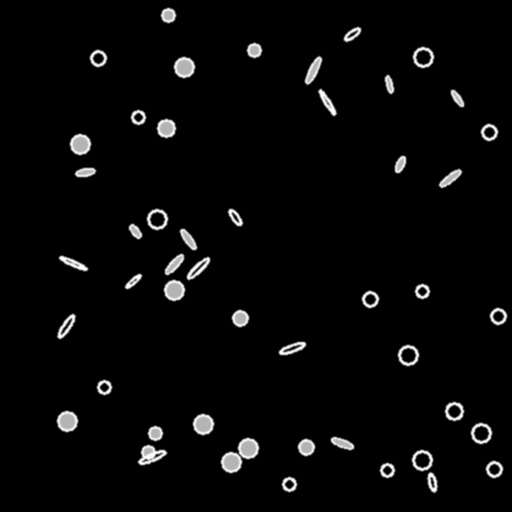pseudomonas: (303, 55, 323, 85), (186, 256, 210, 280), (317, 88, 337, 116), (137, 448, 167, 466), (163, 252, 185, 276), (56, 313, 76, 339), (438, 168, 462, 188), (278, 340, 306, 356), (59, 255, 87, 271), (179, 228, 197, 250), (330, 436, 354, 450), (227, 207, 243, 227), (343, 26, 361, 42), (125, 273, 141, 289), (450, 89, 464, 107), (426, 472, 438, 492), (128, 223, 142, 239), (394, 155, 406, 173), (76, 167, 94, 177), (385, 75, 393, 93)
synechocystis: (58, 412, 76, 430), (175, 58, 193, 76), (71, 135, 89, 153), (414, 48, 432, 66), (148, 210, 166, 228), (239, 439, 257, 457), (222, 453, 240, 471), (413, 451, 431, 469), (165, 281, 183, 299), (472, 424, 490, 442), (194, 415, 212, 433), (399, 346, 417, 364), (446, 403, 462, 419), (158, 120, 174, 136), (91, 51, 105, 65), (482, 125, 496, 139), (299, 440, 313, 454), (491, 309, 505, 323), (233, 311, 247, 325), (487, 462, 501, 476), (363, 292, 377, 306), (283, 478, 295, 490), (142, 446, 154, 458), (381, 464, 393, 476), (162, 9, 174, 21), (132, 111, 144, 123), (98, 381, 110, 393), (416, 285, 428, 297), (149, 427, 161, 439), (248, 44, 260, 56)
